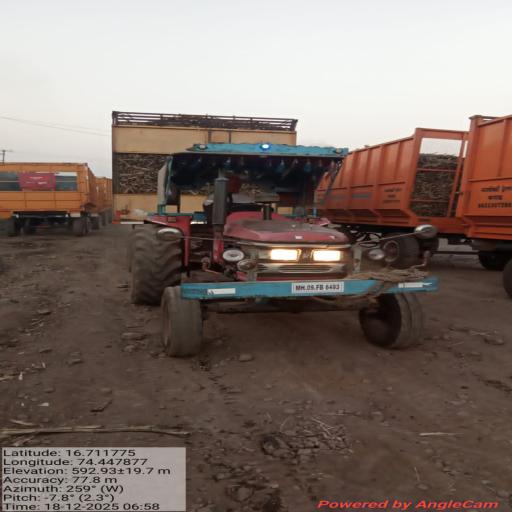number_plate: (292, 281, 344, 293)
